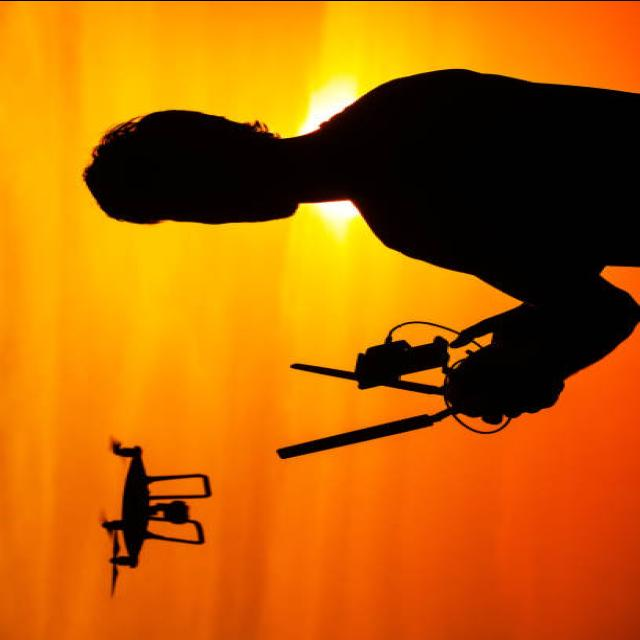drone: (97, 437, 210, 598)
